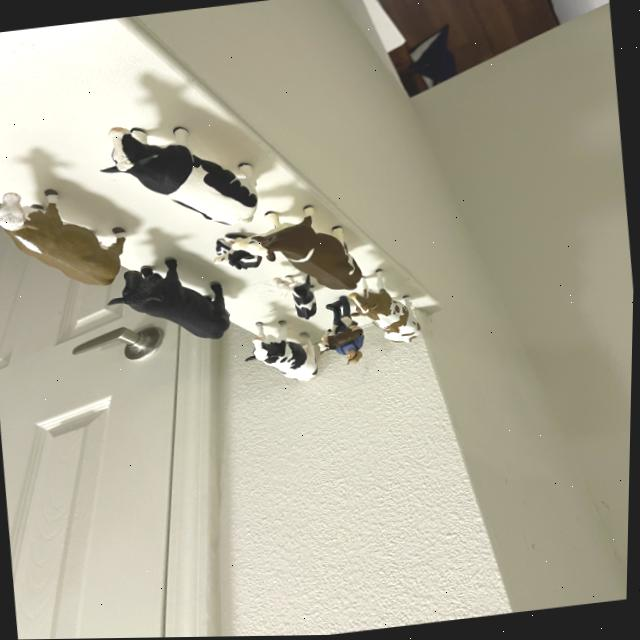cow: (94, 104, 275, 235), (232, 184, 381, 310), (0, 170, 139, 297), (108, 243, 245, 345), (340, 265, 435, 359), (245, 314, 330, 386), (273, 270, 322, 326), (213, 231, 267, 274), (318, 321, 367, 355)
person: (335, 334, 374, 370), (327, 299, 358, 335)
